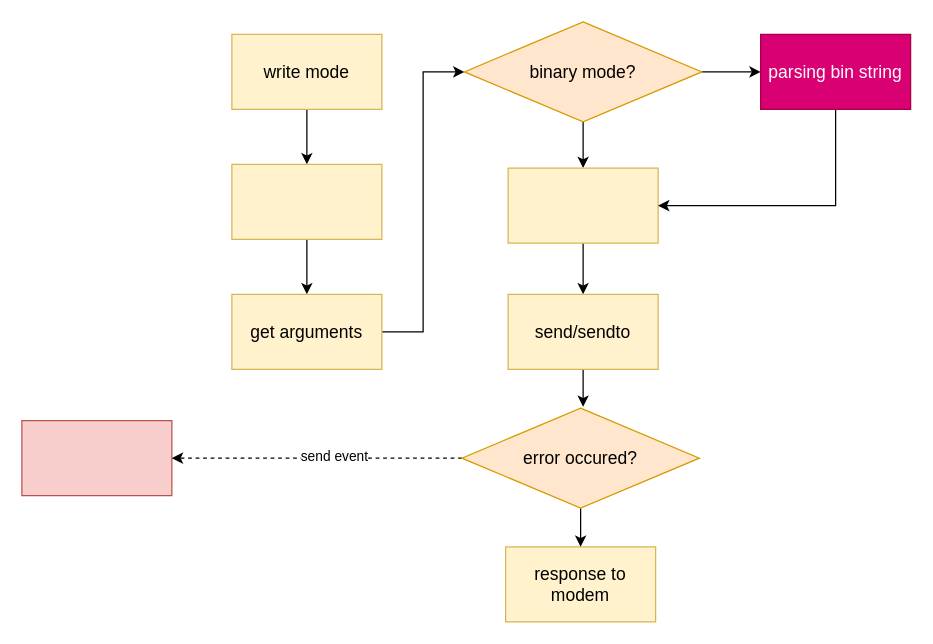
The diagram is 933 pixels wide and 644 high, and some of its shapes have lost their labels. The centre of each missing label's shape, as x and y in pixels:
get socket instances: point (306, 201)
socket monitor: point (96, 457)
transfer to raw data: point (582, 205)
